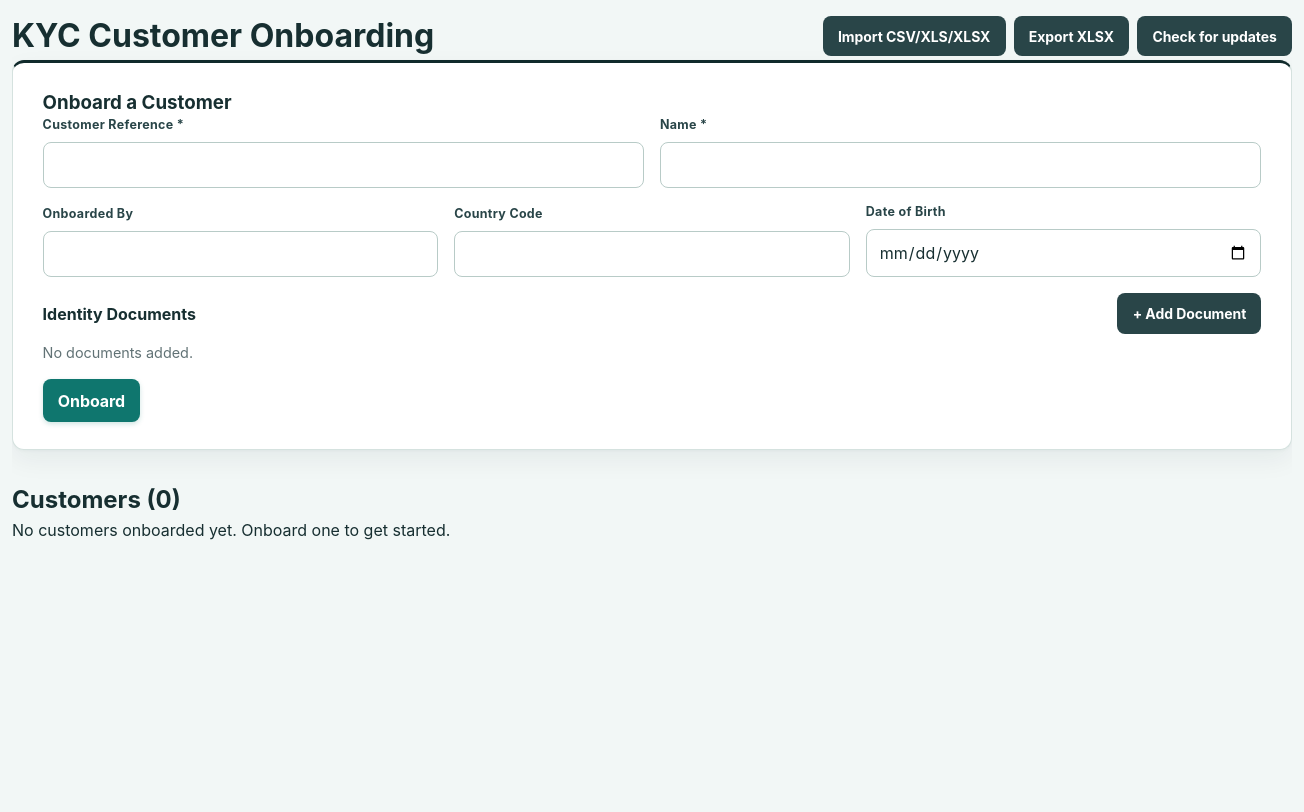
Test: re-screen banner › the click reports first: the background sync of the same run stays silent
This screenshot has width=1304, height=812.
Click the button "Check for updates": (1215, 36) x1=1137 y1=16 x2=1292 y2=56
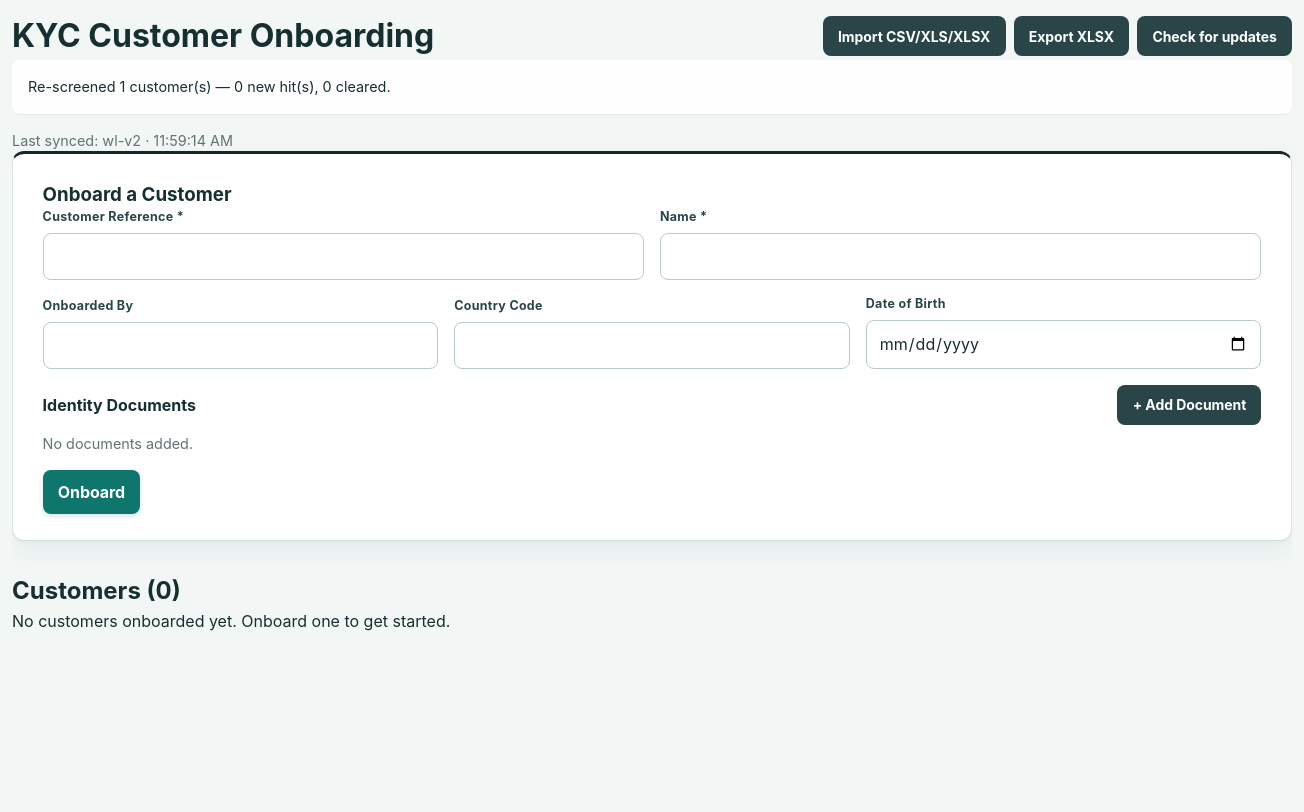
Expected: the text "Re-screened 1 customer(s) — 0 new hit(s), 0 cleared." is shown once, x1=12 y1=60 x2=1292 y2=114
